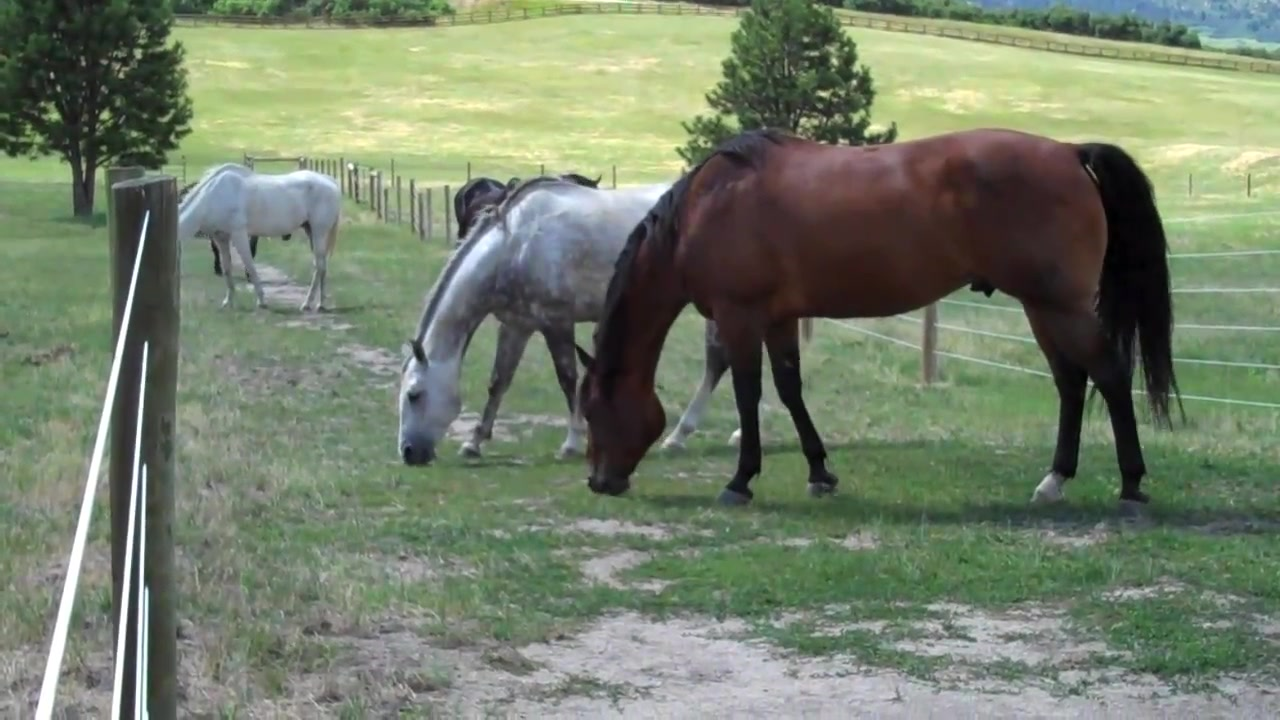horse: (576, 128, 1190, 533), (395, 173, 734, 469), (177, 177, 355, 316), (453, 174, 516, 240)
